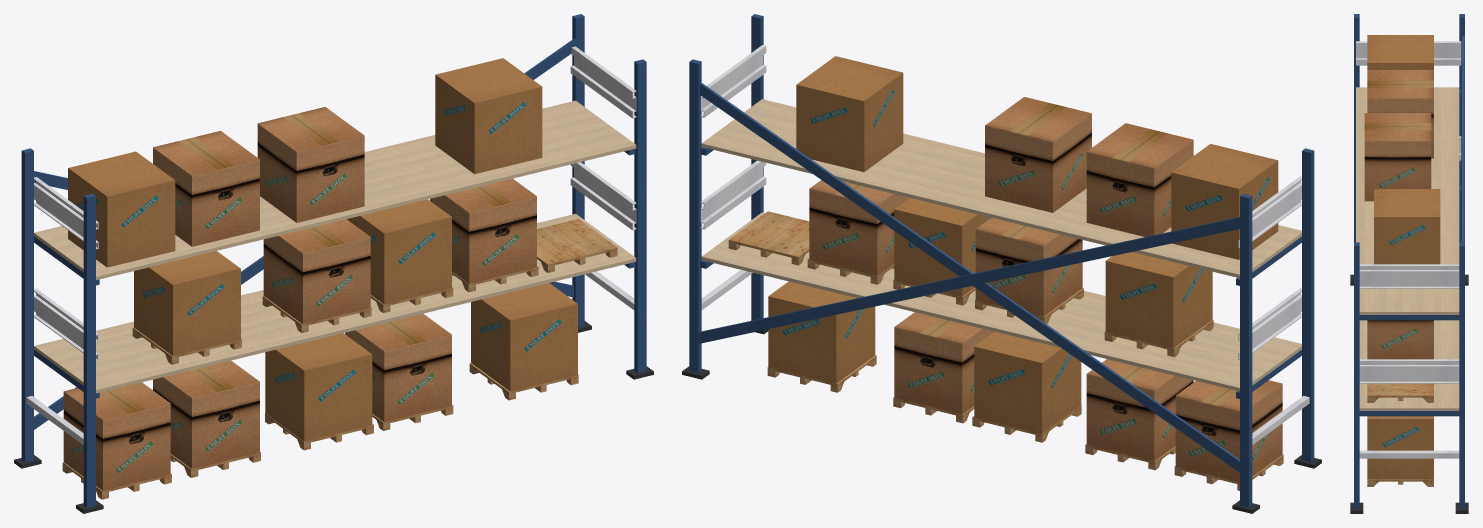
The model's file is BigShelves04Group2.glb.
3 views of the same model, side by side, from view 1: azimuth 30°, elevation 25°; view 2: azimuth 150°, elevation 25°; view 3: azimuth 270°, elevation 25° (orthographic). The views are drawn at different scales.
Parts seen in each view (by area): view 1: Cardboard_box01, Cardboard_box05, BigShelves04, BigShelvesWoodBox; view 2: BigShelves04, Cardboard_box01, Cardboard_box05, BigShelvesWoodBox; view 3: BigShelves04, Cardboard_box05, Cardboard_box01, BigShelvesWoodBox.
Part boxes in pixels (x1,y1,x2,y2): Cardboard_box01: (63, 107, 536, 490); Cardboard_box05: (68, 58, 577, 441); BigShelves04: (14, 14, 653, 513); BigShelvesWoodBox: (62, 219, 617, 499); BigShelves04: (682, 14, 1321, 513); Cardboard_box01: (809, 97, 1282, 482); Cardboard_box05: (768, 56, 1278, 433); BigShelvesWoodBox: (728, 211, 1283, 490); BigShelves04: (1350, 14, 1468, 513); Cardboard_box05: (1367, 35, 1440, 479); Cardboard_box01: (1364, 70, 1433, 359); BigShelvesWoodBox: (1367, 383, 1433, 486).
Size of the model in its own units: 8.57 by 4.49 by 1.81.
Materials: 7 (7 with a texture image).
